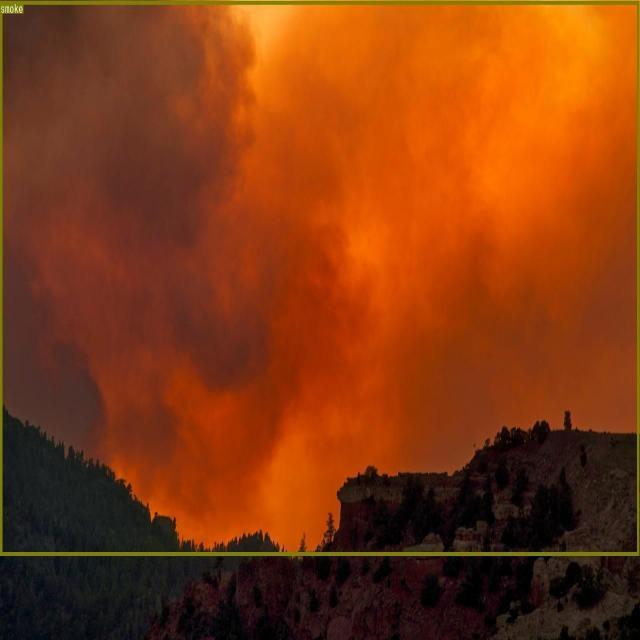smoke: (0, 0, 638, 554)
